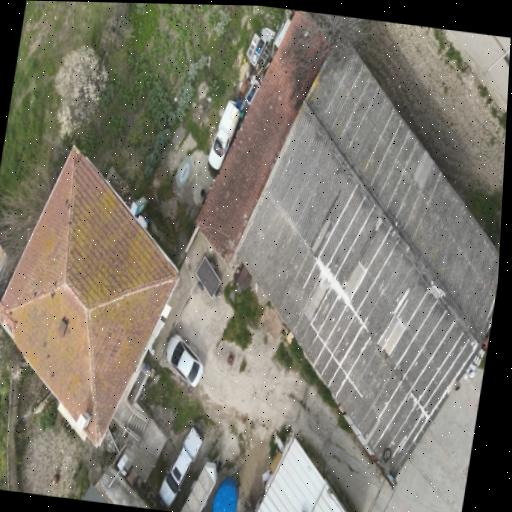car: (159, 428, 202, 507), (208, 101, 240, 170), (165, 334, 202, 387)
